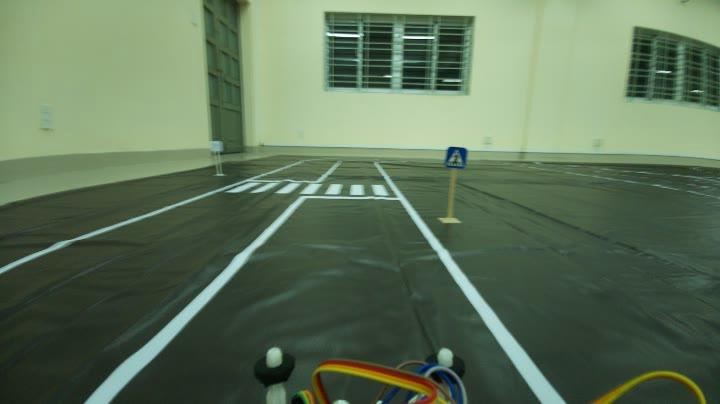crosswalk: (440, 143, 474, 169)
